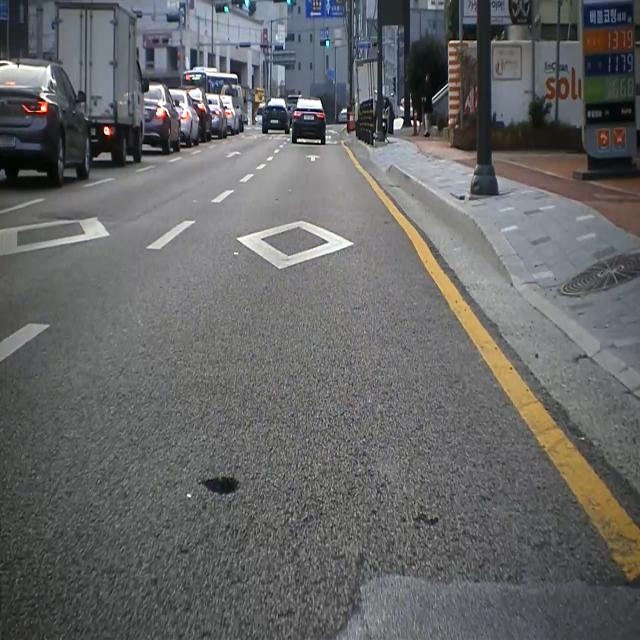Pothole: (189, 456, 252, 519)
